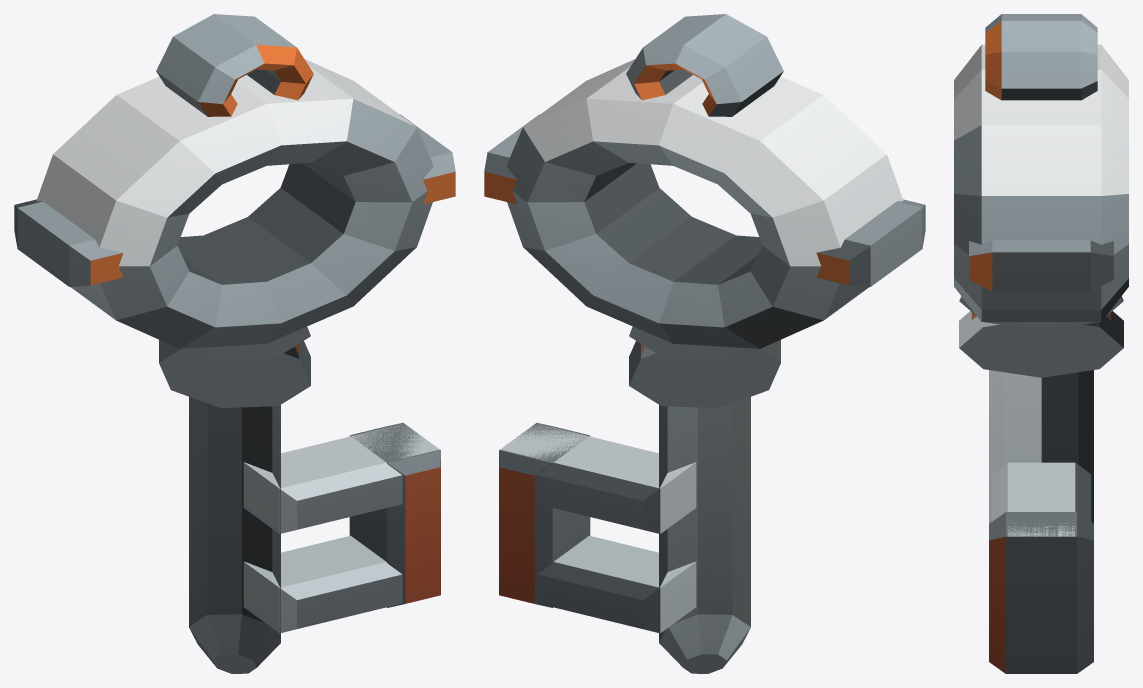
The model's file is source.glb.
The picture shows the model from 3 angles, left to right: view 1: azimuth 30°, elevation 25°; view 2: azimuth 150°, elevation 25°; view 3: azimuth 270°, elevation 25°; orthographic projection. The views are drawn at different scales.
Visible parts, largest first — view 1: model; view 2: model; view 3: model.
Part boxes in pixels (x1,y1,x2,y2): model: [14, 14, 455, 673]; model: [484, 14, 925, 673]; model: [954, 14, 1128, 673].
Size of the model in its own units: 0.48 by 0.76 by 0.2.
Materials: 1 (1 with a texture image).
